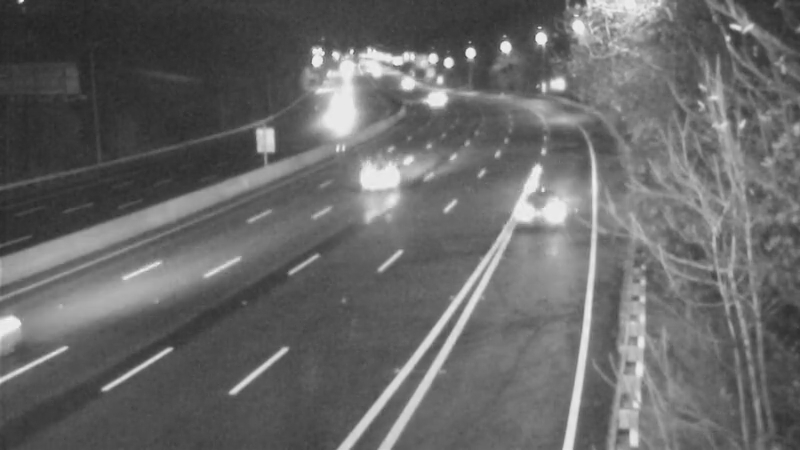vehicle: (344, 131, 424, 211), (496, 169, 576, 249), (406, 75, 456, 125), (316, 93, 366, 143)
